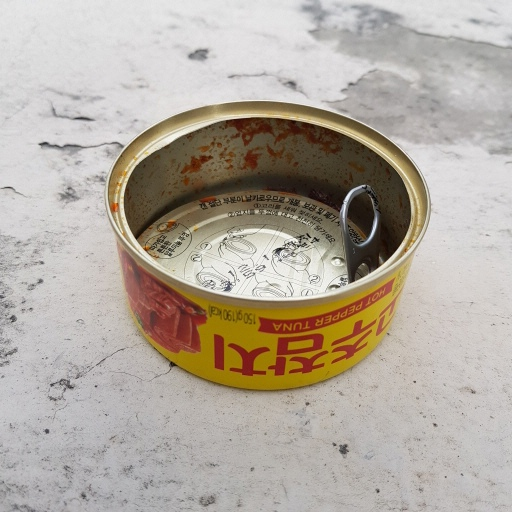Metal_1: (107, 97, 432, 393)
